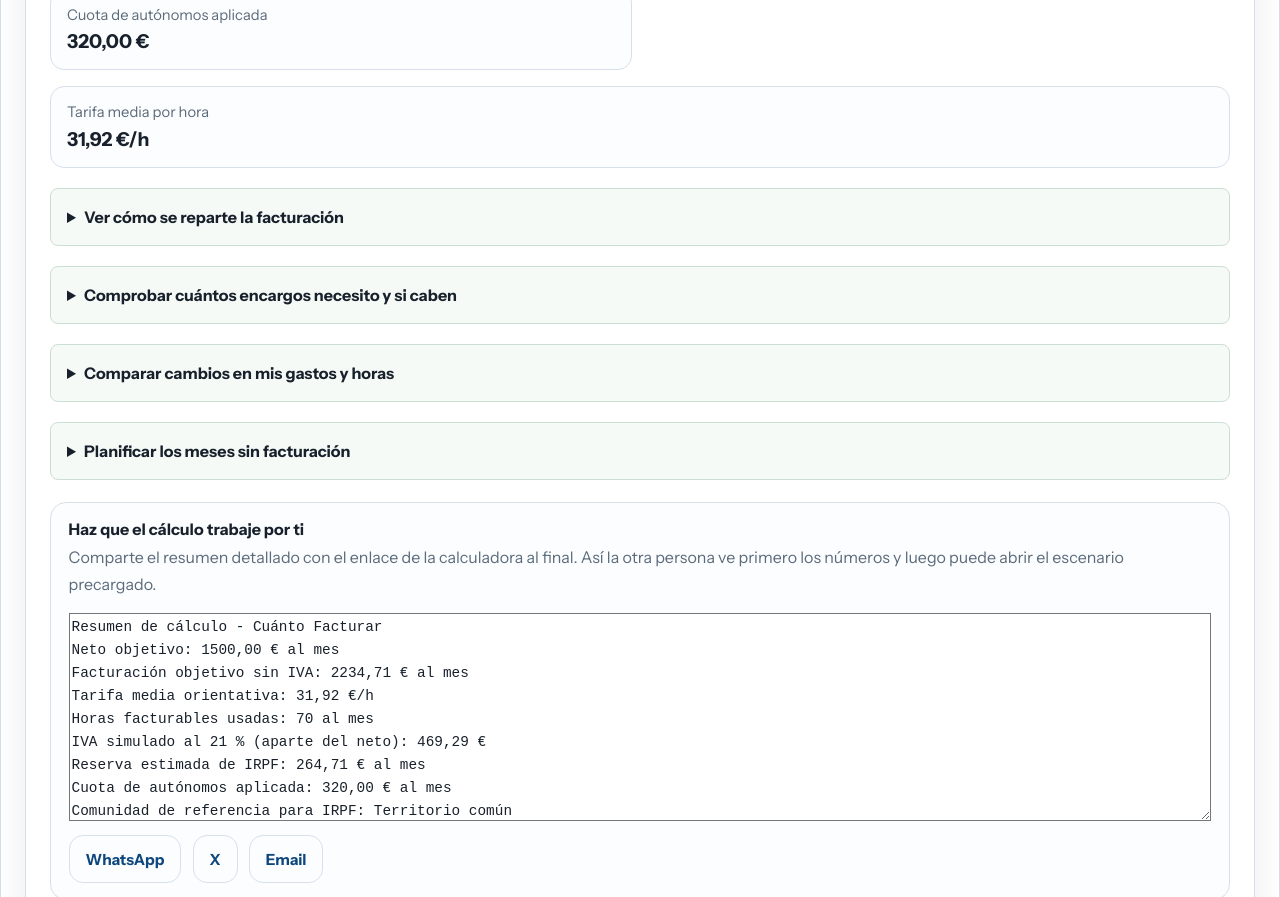
Test: annual billing planner › uses the actual billing reference without changing the summary, main hours or tracking
(page scrolled)
Click the heading "Planificar los meses sin facturación" at coordinates (217, 451), box x1=84 y1=441 x2=350 y2=461
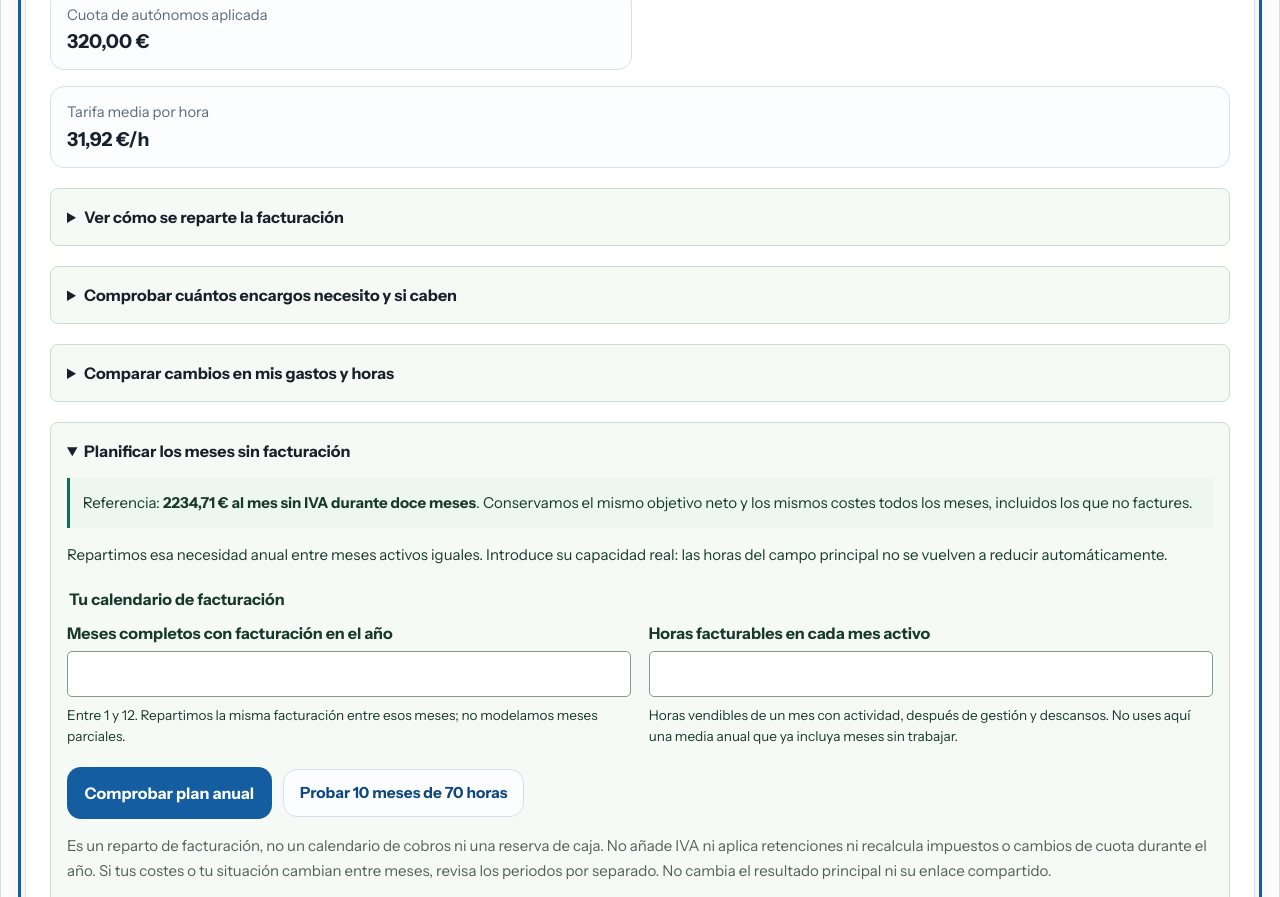
Click the button "Probar 10 meses de 70 horas" at coordinates (404, 793), box x1=283 y1=769 x2=524 y2=817
(page scrolled)
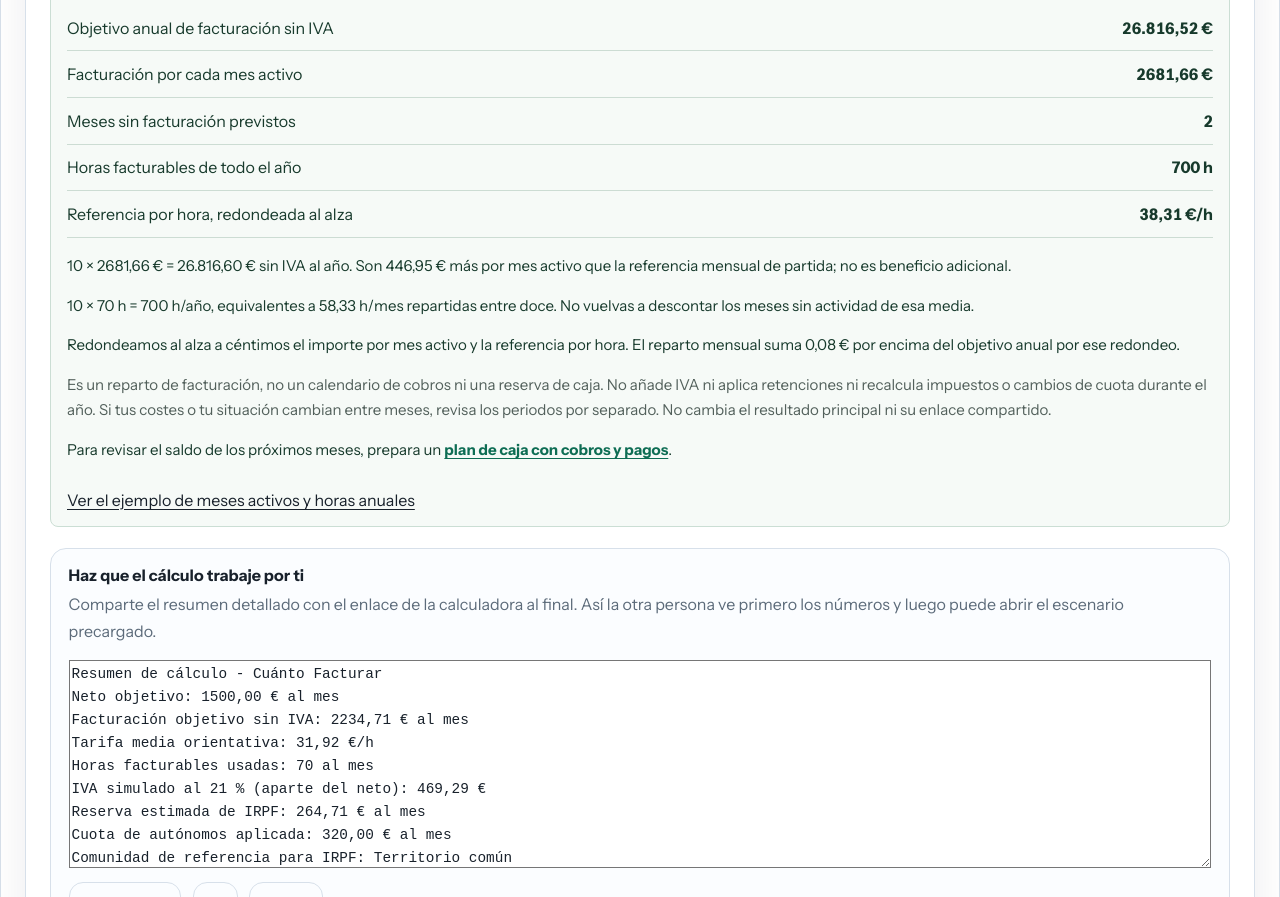
Result: the message named "Plan anual de facturación" shows "26.816,52" at x1=1122 y1=18 x2=1213 y2=38
